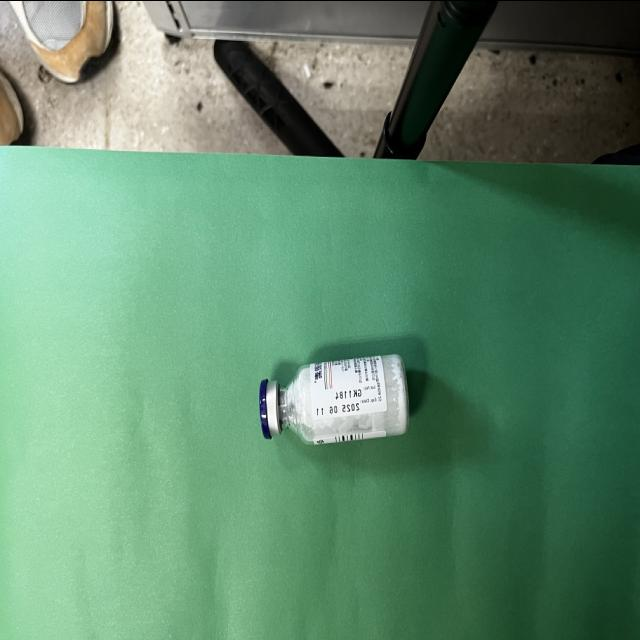Vials: (257, 353, 412, 445)
